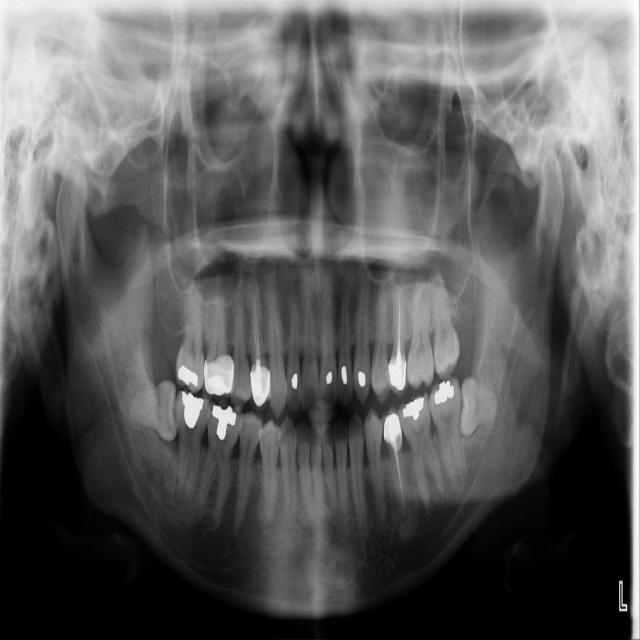52: (388, 390, 444, 443), (419, 373, 472, 427), (171, 338, 211, 396), (201, 399, 245, 448), (202, 349, 237, 401), (174, 388, 210, 437), (246, 361, 275, 411), (379, 407, 406, 452), (386, 354, 409, 397), (319, 358, 337, 404), (353, 358, 371, 404), (286, 364, 302, 411), (337, 360, 352, 405)
73: (388, 447, 415, 519), (246, 287, 267, 364), (388, 282, 406, 358), (592, 568, 595, 576)
BioHorizons Implant: (428, 272, 462, 381)
Biomet 3i Implant: (459, 376, 499, 437)
Blue Sky Bio Implant: (428, 375, 464, 487)
Caries: (174, 268, 213, 395)
Implant: (169, 387, 212, 508)
Keystone Dental Implant: (129, 379, 179, 441)
